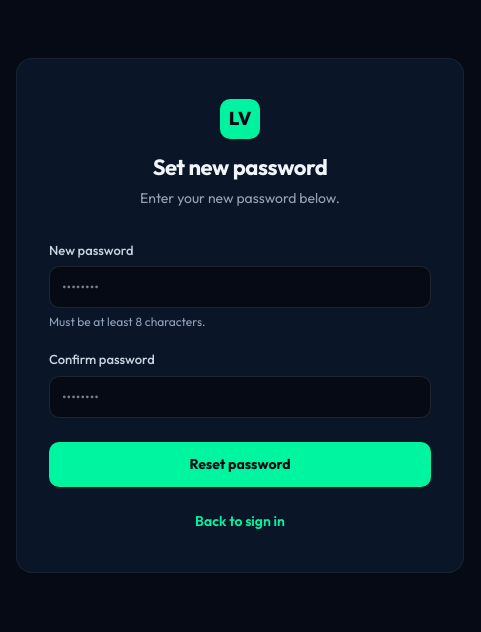
Test: C1: Reset password — full password policy › rejects common/blocklisted passwords
The width and height of the screenshot is (481, 632).
Type "password123" into the password field labelled "New password" at [240, 287], box [49,266,431,308]
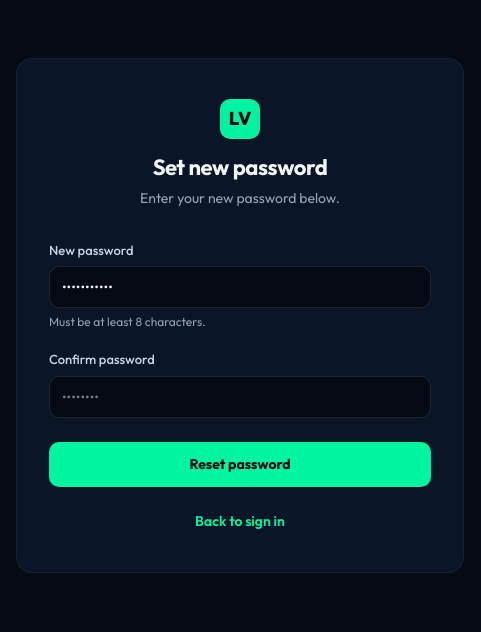
Type "password123" into the password field labelled "Confirm password" at [240, 396], box [49,376,431,418]
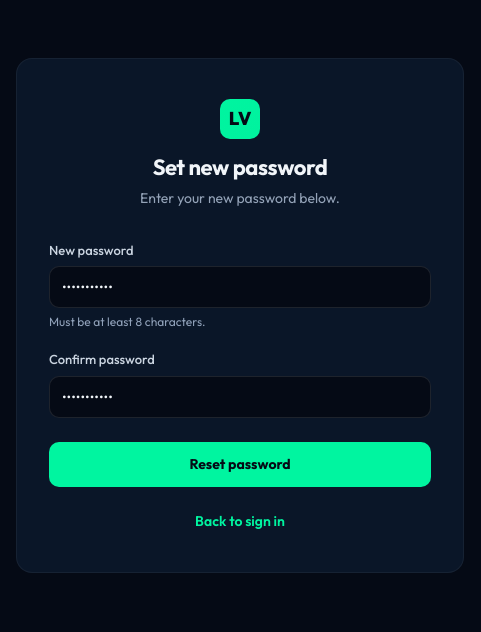
Submit the form from the button "Reset password", box [49,442,431,486]
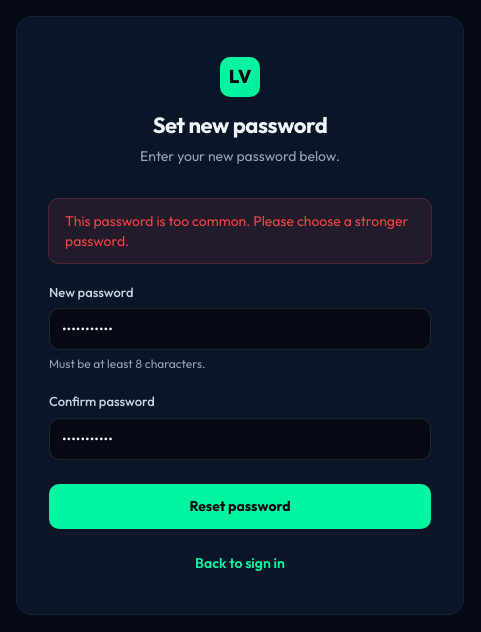
Now the message shows "too common", box [65,212,408,250]
